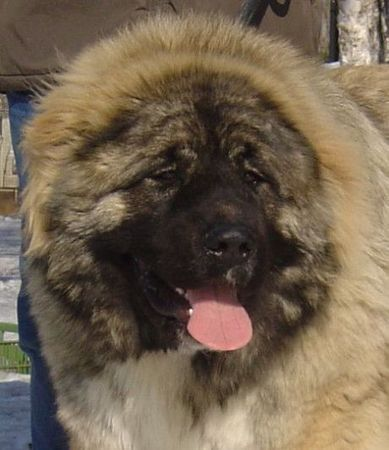cau_ovcharka: (18, 9, 389, 450)
